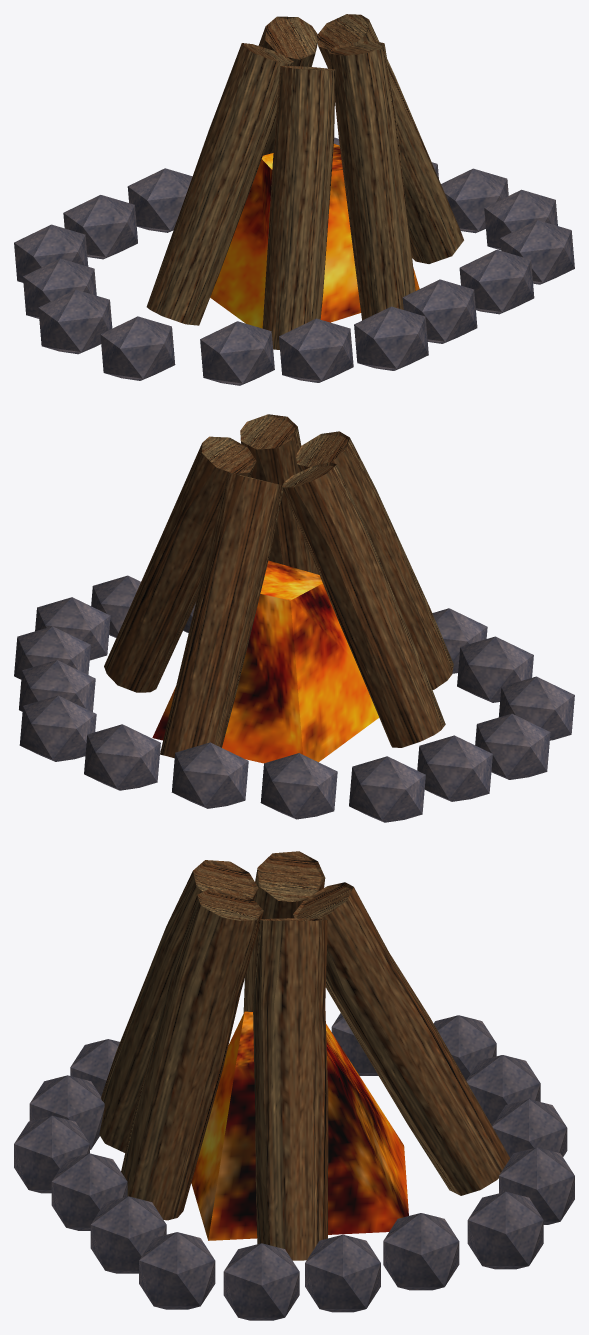
Rendered from Campfire.fbx.
The picture shows the model from 3 angles, top to bottom: view 1: azimuth 30°, elevation 25°; view 2: azimuth 150°, elevation 25°; view 3: azimuth 270°, elevation 25°; orthographic projection. The views are drawn at different scales.
Visible parts, largest first — view 1: Cylinder, Cylinder.005, Cylinder.004, Cube, Cylinder.001, Rock.014, Rock.016, Rock.013, Rock.015, Rock, Rock.011, Rock.003 (+8 smaller); view 2: Cube, Cylinder, Cylinder.002, Cylinder.001, Cylinder.004, Cylinder.005, Rock.002, Rock.003, Rock.005, Rock.004, Rock.001, Rock.006 (+8 smaller); view 3: Cylinder.001, Cylinder.005, Cylinder.002, Cube, Cylinder.004, Rock.006, Rock.007, Rock.010, Rock.009, Rock.008, Rock.011, Cylinder (+9 smaller).
Part boxes in pixels (x1,y1,x2,y2): Cylinder: [146, 43, 293, 325]; Cylinder.005: [329, 41, 415, 320]; Cylinder.004: [262, 66, 335, 349]; Cube: [210, 143, 419, 328]; Cylinder.001: [317, 14, 463, 263]; Rock.014: [279, 318, 353, 382]; Rock.016: [100, 316, 175, 380]; Rock.013: [354, 306, 428, 370]; Rock.015: [200, 321, 274, 385]; Rock: [38, 289, 112, 354]; Rock.011: [459, 249, 534, 314]; Rock.003: [63, 195, 137, 259]; Cube: [152, 560, 378, 763]; Cylinder: [282, 462, 445, 747]; Cylinder.002: [160, 472, 283, 758]; Cylinder.001: [104, 436, 256, 692]; Cylinder.004: [296, 431, 453, 689]; Cylinder.005: [240, 414, 319, 574]; Rock.002: [349, 756, 425, 822]; Rock.003: [260, 753, 337, 819]; Rock.005: [84, 724, 160, 790]; Rock.004: [171, 742, 248, 808]; Rock.001: [417, 735, 492, 801]; Rock.006: [19, 695, 96, 761]; Cylinder.001: [253, 918, 328, 1260]; Cylinder.005: [121, 888, 263, 1220]; Cylinder.002: [293, 882, 509, 1195]; Cube: [191, 1011, 408, 1240]; Cylinder.004: [99, 860, 258, 1152]; Rock.006: [467, 1191, 543, 1269]; Rock.007: [383, 1213, 459, 1290]; Rock.010: [139, 1232, 215, 1309]; Rock.009: [223, 1243, 299, 1320]; Rock.008: [305, 1234, 380, 1312]; Rock.011: [90, 1196, 166, 1273]; Cylinder: [243, 851, 325, 1012].
Size of the model in its own units: 111 by 54.65 by 88.54.
3 materials, 3 textured.
